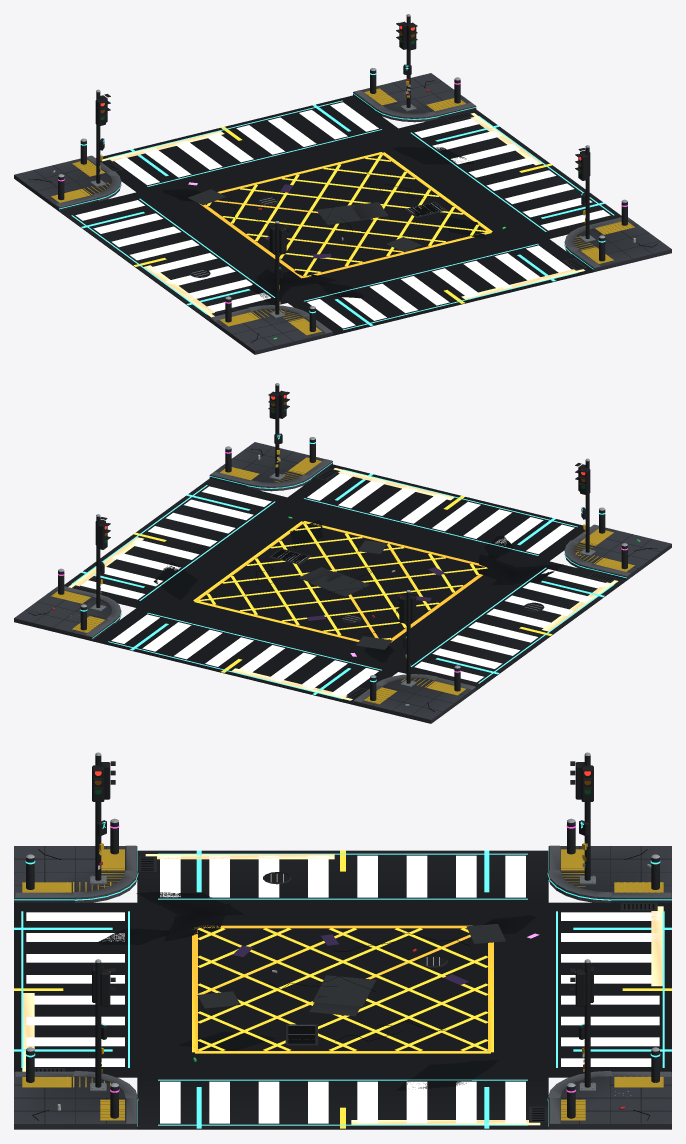
File: cp_road_cross.glb
The picture shows the model from 3 angles, top to bottom: view 1: azimuth 30°, elevation 25°; view 2: azimuth 150°, elevation 25°; view 3: azimuth 270°, elevation 25°; orthographic projection. The views are drawn at different scales.
Visible parts, largest first — view 1: cp_road_cross, part_signal_1, part_signal_3, part_signal_2, part_signal_4; view 2: cp_road_cross, part_signal_4, part_signal_2, part_signal_3, part_signal_1; view 3: cp_road_cross, part_signal_3, part_signal_4, part_signal_2, part_signal_1.
Boxes of the visible parts, <box> form: cp_road_cross: <box>14,73,671,354</box>; part_signal_1: <box>268,221,289,318</box>; part_signal_3: <box>396,14,417,111</box>; part_signal_2: <box>575,145,595,242</box>; part_signal_4: <box>90,89,110,187</box>; cp_road_cross: <box>14,442,671,723</box>; part_signal_4: <box>396,590,417,687</box>; part_signal_2: <box>268,383,289,480</box>; part_signal_3: <box>90,514,110,611</box>; part_signal_1: <box>575,458,595,556</box>; cp_road_cross: <box>14,845,671,1129</box>; part_signal_3: <box>570,959,595,1091</box>; part_signal_4: <box>570,752,595,884</box>; part_signal_2: <box>90,959,115,1091</box>; part_signal_1: <box>90,752,115,884</box>.
Bounding box in the file's own units: 16 × 3.6 × 16.
